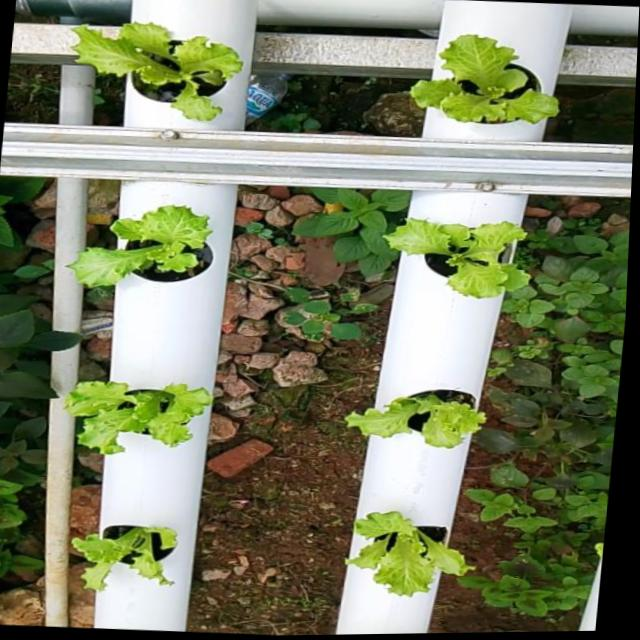Baby: (63, 29, 235, 127), (405, 36, 554, 142), (377, 220, 526, 302), (66, 205, 214, 287), (63, 381, 212, 456), (346, 513, 476, 598), (345, 390, 487, 449), (71, 526, 176, 592)
